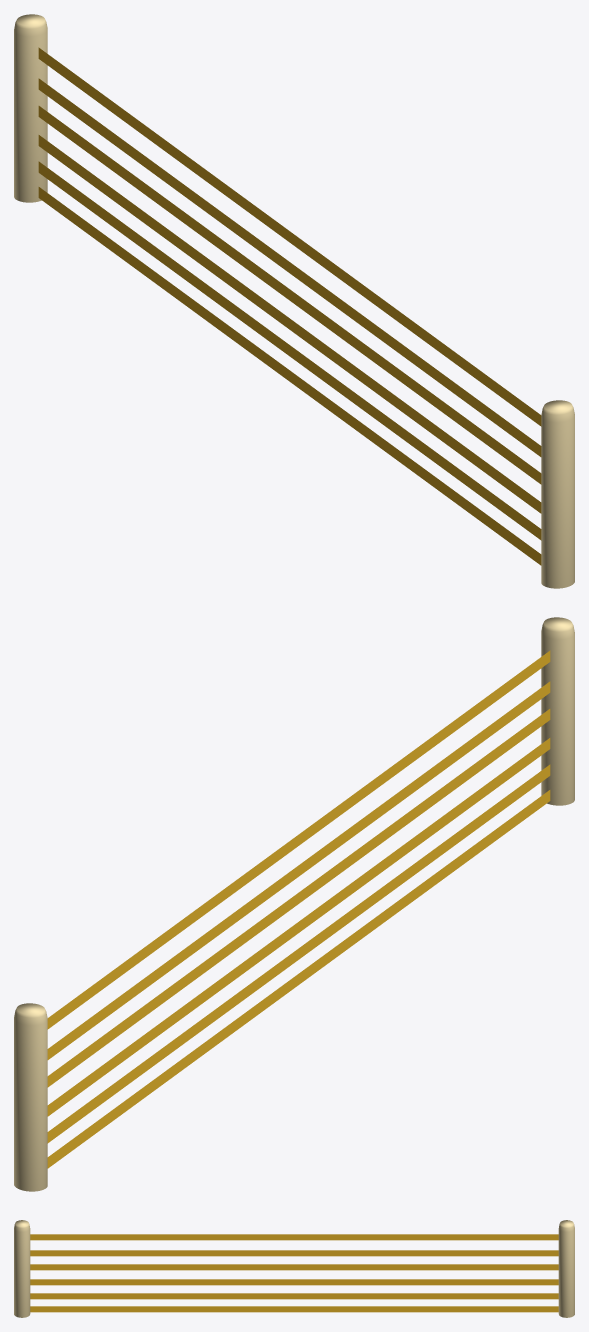
Rendered from yellowborder.glb.
3 views of the same model, one above another, from view 1: azimuth 30°, elevation 25°; view 2: azimuth 150°, elevation 25°; view 3: azimuth 270°, elevation 25° (orthographic). The views are drawn at different scales.
Visible parts, largest first — view 1: yellowborder; view 2: yellowborder; view 3: yellowborder.
Boxes of the visible parts, x1,y1,x2,y2 form: yellowborder: (14,14,574,588); yellowborder: (14,617,574,1191); yellowborder: (14,1220,574,1317).
Size of the model in its own units: 0.2007 by 1.12 by 6.29.
